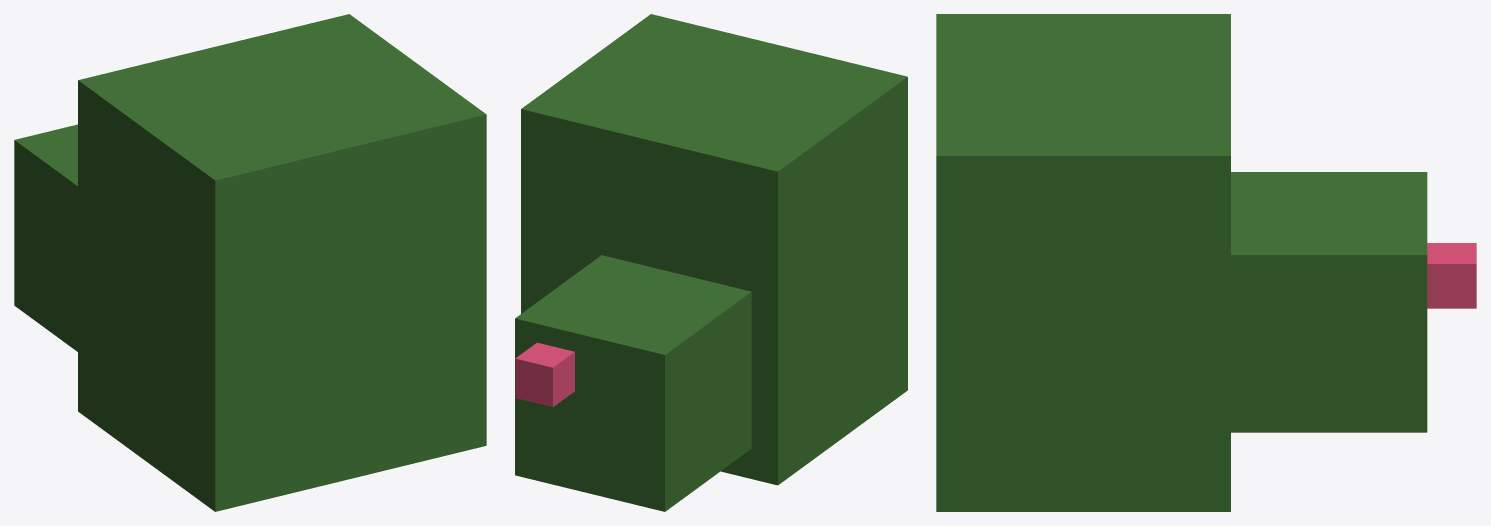
The model's file is Cacti 4.fbx.
The picture shows the model from 3 angles, left to right: view 1: azimuth 30°, elevation 25°; view 2: azimuth 150°, elevation 25°; view 3: azimuth 270°, elevation 25°; orthographic projection. The views are drawn at different scales.
Visible parts, largest first — view 1: Cactus 4; view 2: Cactus 4; view 3: Cactus 4.
Boxes of the visible parts, <box> form: Cactus 4: <box>14,14,486,511</box>; Cactus 4: <box>515,14,907,511</box>; Cactus 4: <box>936,14,1476,511</box>.
Bounding box in the file's own units: 57.09 × 66.64 × 91.74.
